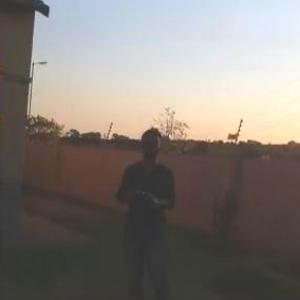follow: (112, 121, 181, 299)
